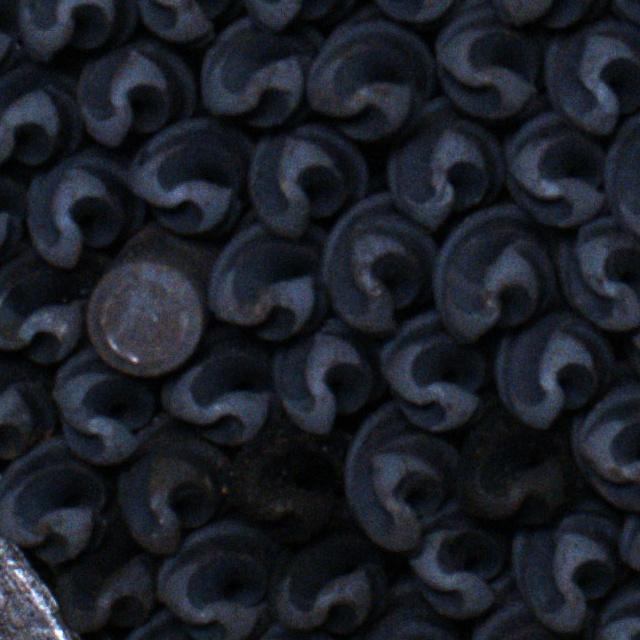tool: (81, 255, 213, 374)
tool_b: (343, 403, 461, 552), (432, 204, 558, 342), (304, 11, 434, 141), (319, 192, 437, 334), (206, 207, 330, 342), (386, 96, 506, 227), (510, 495, 622, 635), (127, 116, 257, 234), (115, 428, 232, 554), (154, 519, 276, 639), (24, 151, 145, 270), (459, 407, 580, 526), (227, 425, 348, 543), (156, 323, 274, 443), (502, 94, 608, 226), (493, 313, 614, 428), (270, 318, 388, 435), (0, 439, 110, 564), (201, 18, 326, 127), (247, 126, 367, 239), (376, 309, 485, 430), (76, 39, 198, 146), (434, 2, 544, 120), (270, 531, 388, 634), (52, 345, 156, 461), (544, 20, 640, 135), (58, 530, 158, 634), (570, 364, 640, 509), (409, 514, 507, 617), (0, 244, 83, 362), (555, 217, 640, 331), (1, 66, 84, 168), (344, 578, 464, 640), (464, 571, 570, 640), (14, 0, 137, 58), (0, 350, 56, 460), (134, 0, 250, 43), (603, 109, 640, 240), (241, 0, 371, 29), (581, 578, 640, 640), (487, 0, 612, 28), (110, 610, 221, 640), (0, 158, 26, 270), (366, 0, 488, 21), (617, 499, 640, 583), (0, 0, 21, 76)
